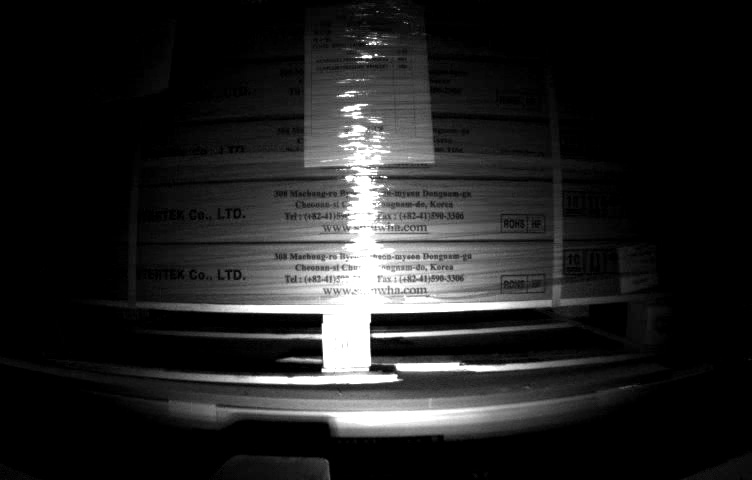True Barcode: (616, 243, 662, 290)
